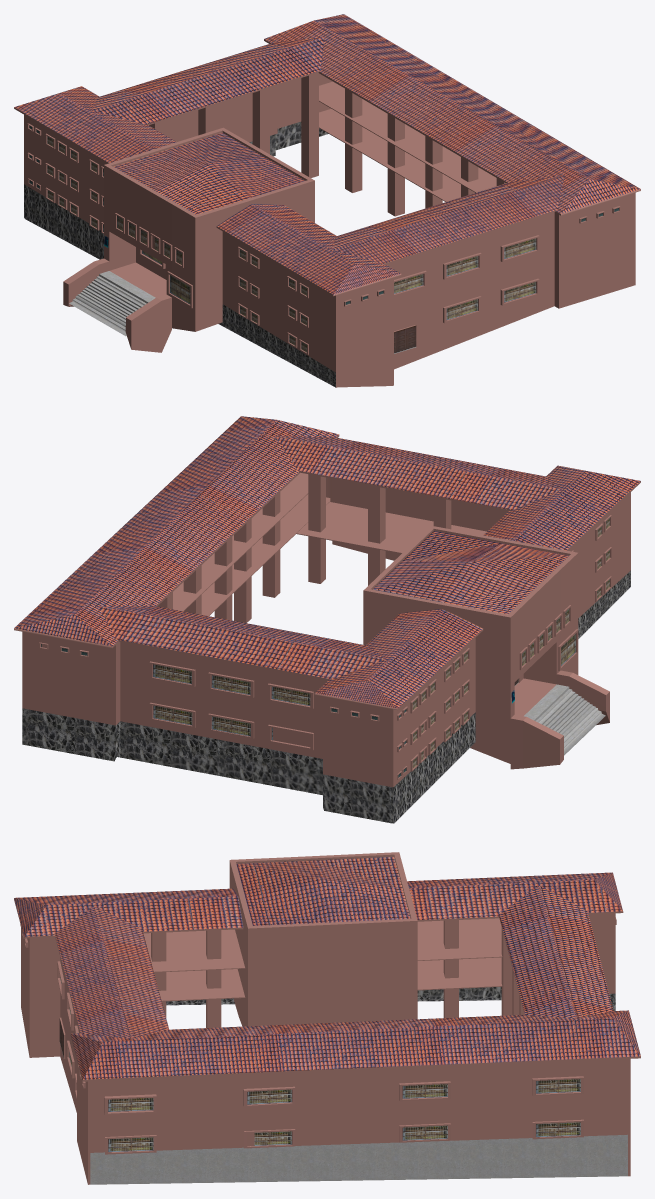
File: cole_corre.fbx
3 renders of one model, top to bottom at view 1: azimuth 30°, elevation 25°; view 2: azimuth 150°, elevation 25°; view 3: azimuth 270°, elevation 25°, orthographic. The views are drawn at different scales.
Visible parts, largest first — view 1: polySurface2795, polySurface2738, polySurface2740, polySurface2746, polySurface2747, polySurface2745, polySurface2735, polySurface2744, polySurface2743, polySurface2723, polySurface2721, polySurface2720 (+4 smaller); view 2: polySurface2795, polySurface2738, polySurface2740, polySurface2746, polySurface2747, polySurface2745, polySurface2735, polySurface2748, polySurface2744, polySurface2743, polySurface2701, polySurface2700 (+3 smaller); view 3: polySurface2795, polySurface2738, polySurface2740, polySurface2746, polySurface2747, polySurface2745, polySurface2726, polySurface2725, polySurface2735, polySurface2791, polySurface2792, polySurface2793 (+5 smaller).
Boxes of the visible parts, bbox=[...] form: polySurface2795: bbox=[24, 73, 635, 387]; polySurface2738: bbox=[63, 127, 314, 352]; polySurface2740: bbox=[264, 14, 640, 215]; polySurface2746: bbox=[14, 86, 401, 296]; polySurface2747: bbox=[92, 37, 324, 125]; polySurface2745: bbox=[333, 175, 564, 264]; polySurface2735: bbox=[149, 73, 505, 216]; polySurface2744: bbox=[319, 81, 496, 192]; polySurface2743: bbox=[319, 108, 460, 201]; polySurface2723: bbox=[500, 278, 539, 305]; polySurface2721: bbox=[500, 235, 539, 261]; polySurface2720: bbox=[443, 253, 481, 279]; polySurface2795: bbox=[22, 477, 630, 823]; polySurface2738: bbox=[363, 525, 609, 769]; polySurface2740: bbox=[14, 416, 339, 648]; polySurface2746: bbox=[314, 465, 640, 709]; polySurface2747: bbox=[99, 605, 385, 680]; polySurface2745: bbox=[276, 436, 562, 510]; polySurface2735: bbox=[157, 474, 508, 622]; polySurface2748: bbox=[296, 502, 486, 553]; polySurface2744: bbox=[173, 472, 308, 611]; polySurface2743: bbox=[201, 494, 330, 616]; polySurface2701: bbox=[267, 683, 313, 708]; polySurface2700: bbox=[149, 661, 195, 686]; polySurface2795: bbox=[21, 913, 630, 1184]; polySurface2738: bbox=[229, 852, 417, 1026]; polySurface2740: bbox=[70, 1010, 640, 1081]; polySurface2746: bbox=[14, 872, 623, 938]; polySurface2747: bbox=[498, 885, 613, 1018]; polySurface2745: bbox=[54, 906, 169, 1038]; polySurface2726: bbox=[143, 918, 502, 972]; polySurface2725: bbox=[159, 957, 502, 1001]; polySurface2735: bbox=[151, 920, 524, 1027]; polySurface2791: bbox=[104, 1094, 156, 1114]; polySurface2792: bbox=[243, 1086, 295, 1107]; polySurface2793: bbox=[399, 1081, 450, 1101].
Bounding box in the file's own units: 7.92 × 2.68 × 8.95.
